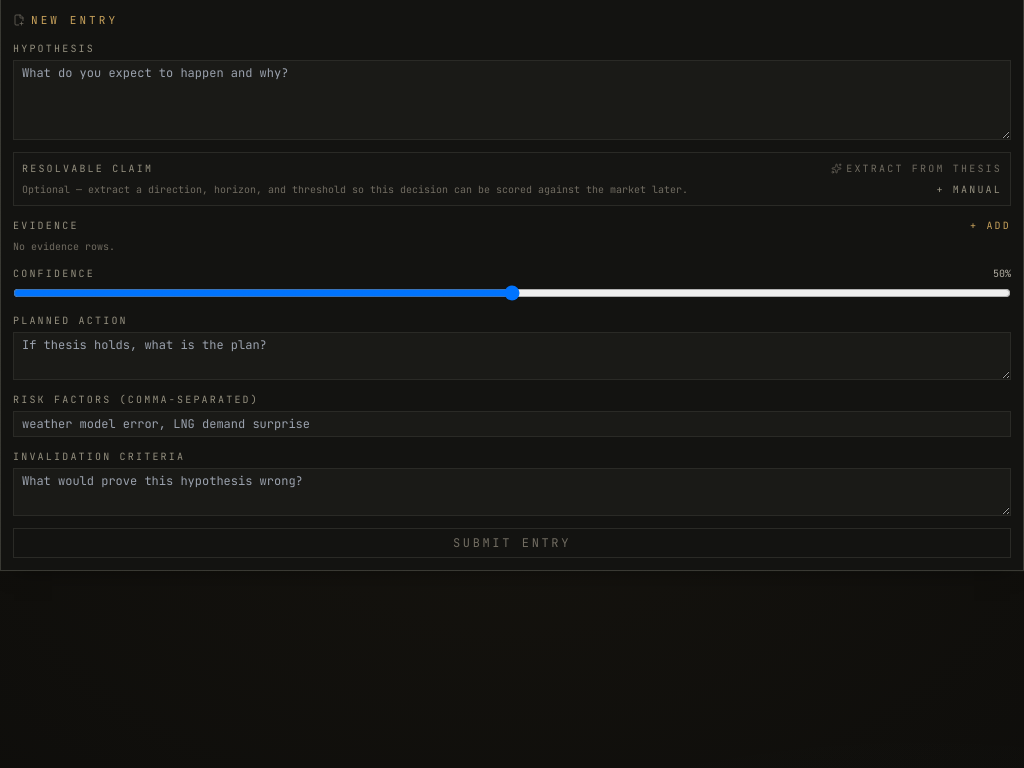
Test case: NewEntryForm › enables submit button when hypothesis is filled
This screenshot has width=1024, height=768.
Step 1. Type "Hypothesis text" into the text box with placeholder "What do you expect to happen and why?" → {"x": 512, "y": 100}, box [13,60,1011,140]
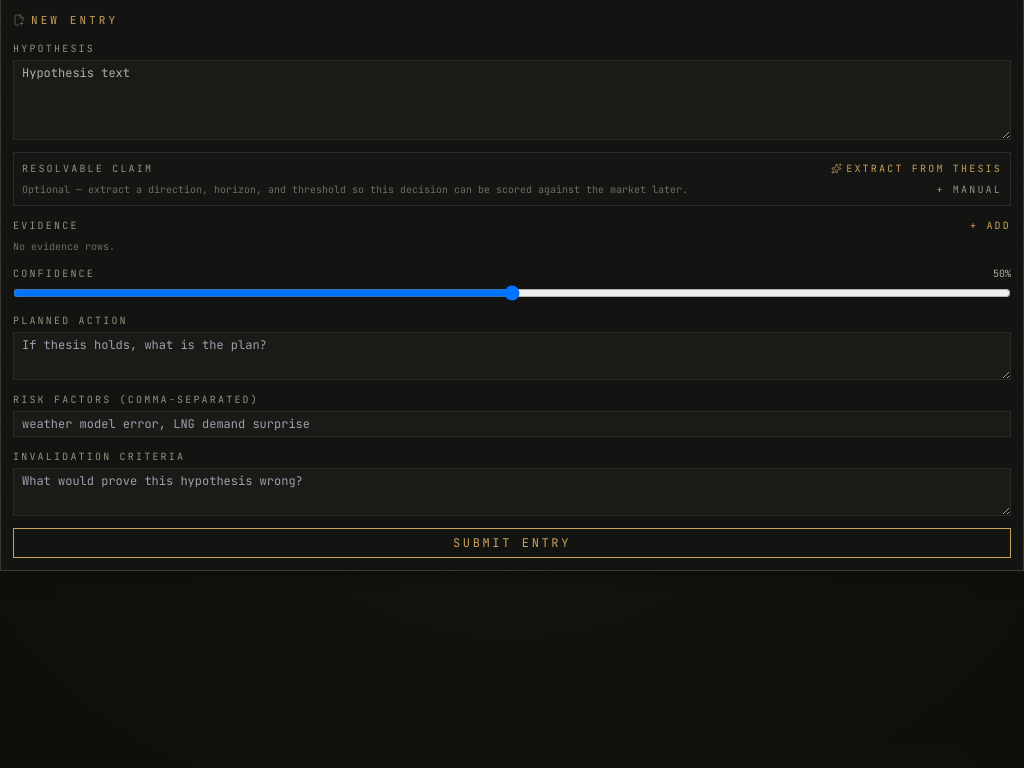
Now the button "Submit Entry" is enabled, box [13,528,1011,558]
